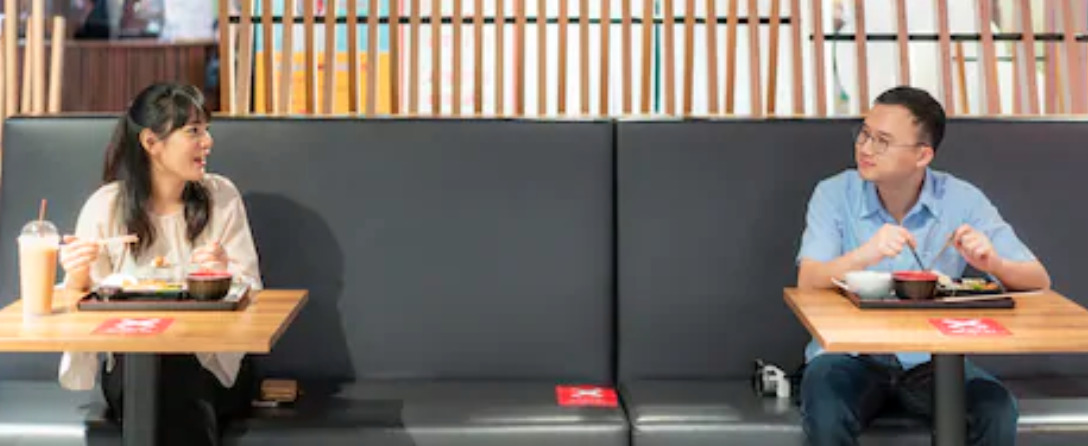Good: (58, 75, 1060, 324)
